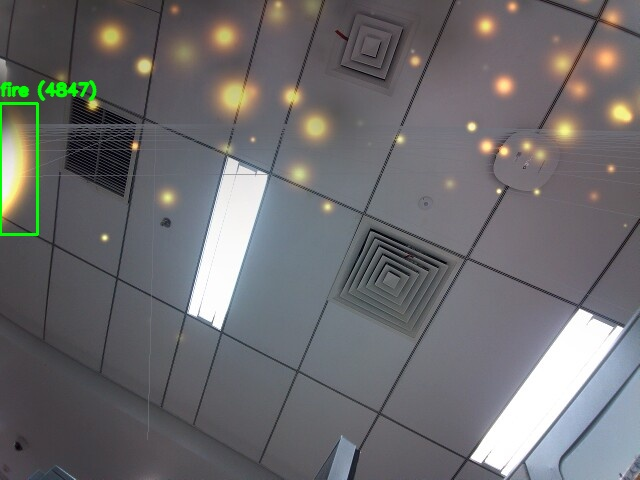fire: (0, 103, 37, 234)
